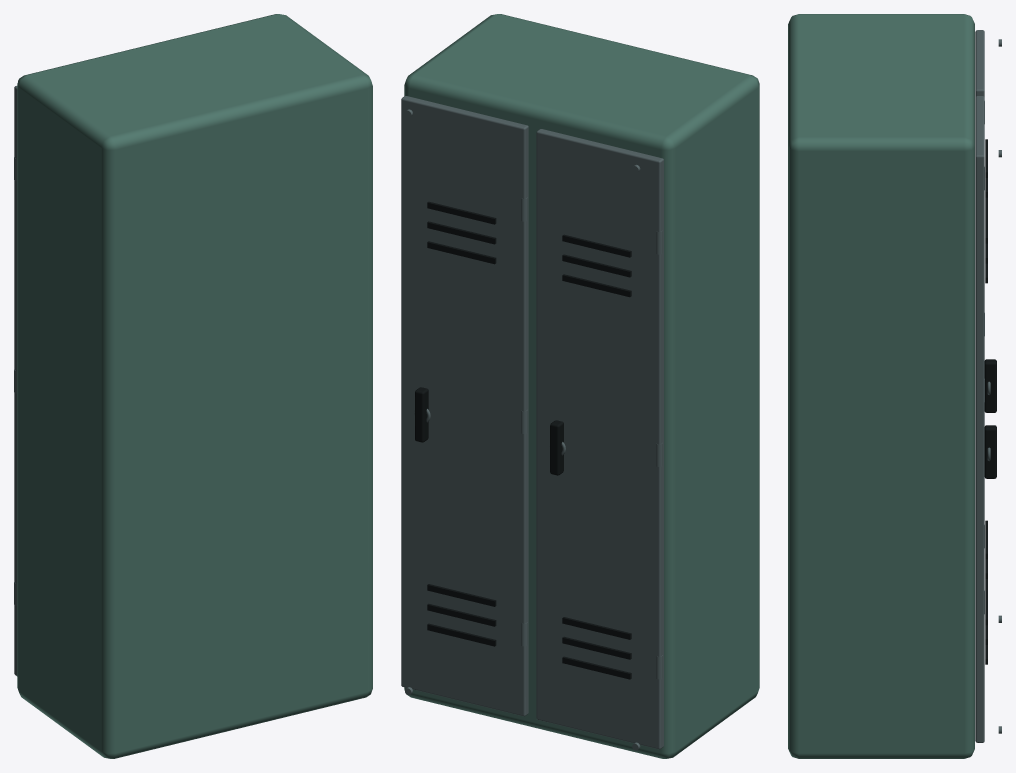
The model's file is Locker.obj.
3 renders of one model, left to right at view 1: azimuth 30°, elevation 25°; view 2: azimuth 150°, elevation 25°; view 3: azimuth 270°, elevation 25°, orthographic.
Parts seen in each view (by area): view 1: Locker; view 2: Locker; view 3: Locker.
Boxes of the visible parts, bbox=[...] form: Locker: bbox=[14, 14, 372, 758]; Locker: bbox=[401, 14, 759, 758]; Locker: bbox=[788, 14, 1001, 758].
Size of the model in its own units: 1 by 2.2 by 0.686.
